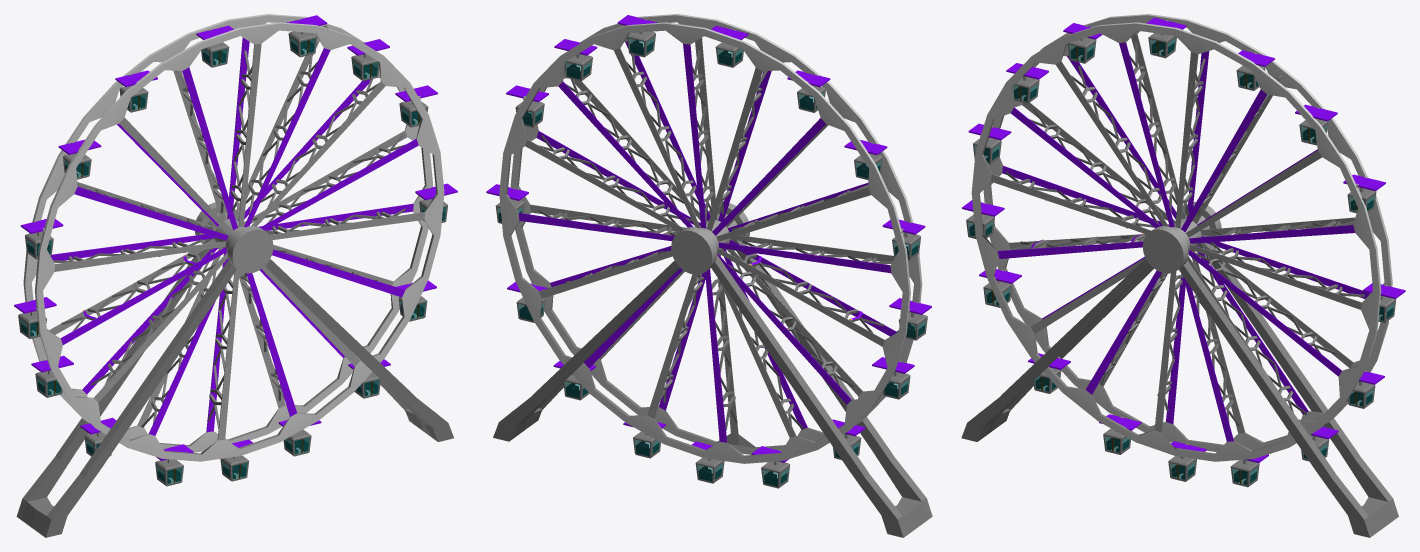
The model's file is BrinquedosDeParque.fbx.
3 views of the same model, side by side, from view 1: azimuth 30°, elevation 25°; view 2: azimuth 150°, elevation 25°; view 3: azimuth 330°, elevation 25° (orthographic).
Parts seen in each view (by area): view 1: RodaGigante_RodaLOD0, RodaGigante,ParteFixa; view 2: RodaGigante_RodaLOD0, RodaGigante,ParteFixa; view 3: RodaGigante_RodaLOD0, RodaGigante,ParteFixa.
Boxes of the visible parts, left/top/right/bottom form: RodaGigante_RodaLOD0: left=14, top=14, right=457, bottom=486; RodaGigante,ParteFixa: left=16, top=239, right=453, bottom=537; RodaGigante_RodaLOD0: left=486, top=14, right=931, bottom=488; RodaGigante,ParteFixa: left=493, top=240, right=932, bottom=537; RodaGigante_RodaLOD0: left=962, top=14, right=1405, bottom=487; RodaGigante,ParteFixa: left=961, top=242, right=1398, bottom=537.
Size of the model in its own units: 6421 by 6408 by 975.
Materials: 2 (1 with a texture image).
